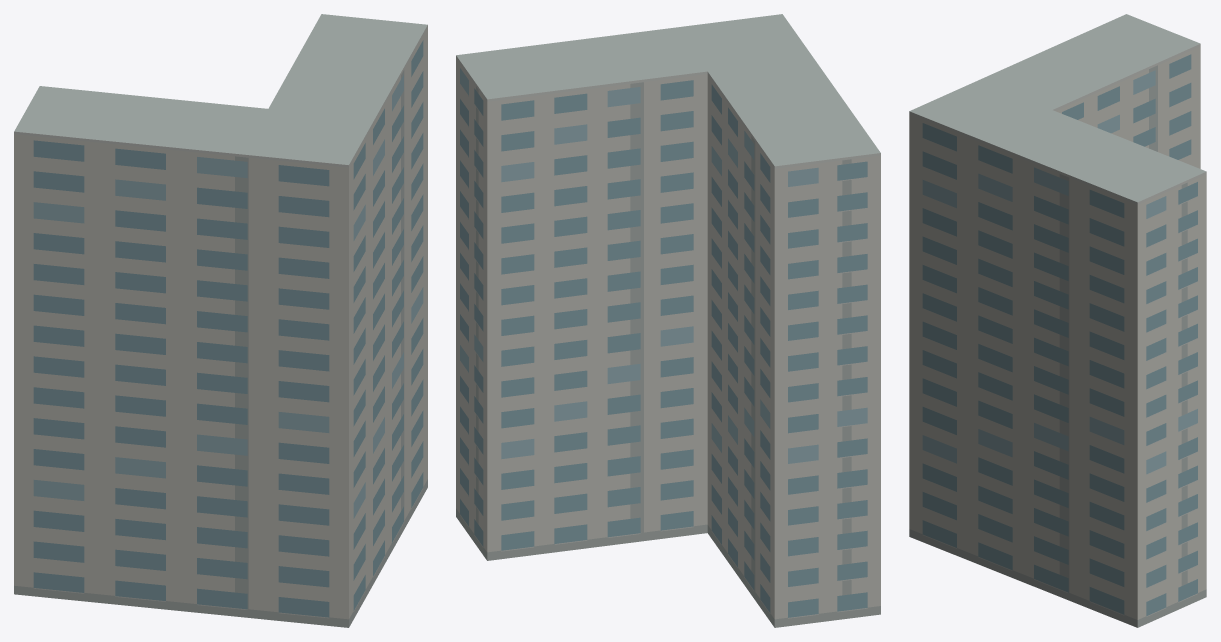
The model's file is residential-177ea449-b95b-4576-a81f-475d4b667cf4.glb.
3 views of the same model, side by side, from view 1: azimuth 30°, elevation 25°; view 2: azimuth 150°, elevation 25°; view 3: azimuth 270°, elevation 25° (orthographic). The views are drawn at different scales.
Visible parts, largest first — view 1: residential-177ea449-b95b-4576-a81f-475d4b667cf4.tmp; view 2: residential-177ea449-b95b-4576-a81f-475d4b667cf4.tmp; view 3: residential-177ea449-b95b-4576-a81f-475d4b667cf4.tmp.
Boxes of the visible parts, x1=… form: residential-177ea449-b95b-4576-a81f-475d4b667cf4.tmp: x1=14, y1=14, x2=427, y2=627; residential-177ea449-b95b-4576-a81f-475d4b667cf4.tmp: x1=456, y1=14, x2=880, y2=627; residential-177ea449-b95b-4576-a81f-475d4b667cf4.tmp: x1=909, y1=14, x2=1206, y2=627.
Bounding box in the file's own units: 40.84 × 43 × 27.25.
